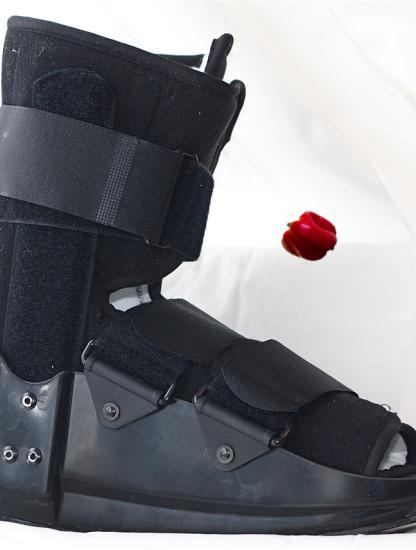Pepper: (283, 211, 337, 265)
